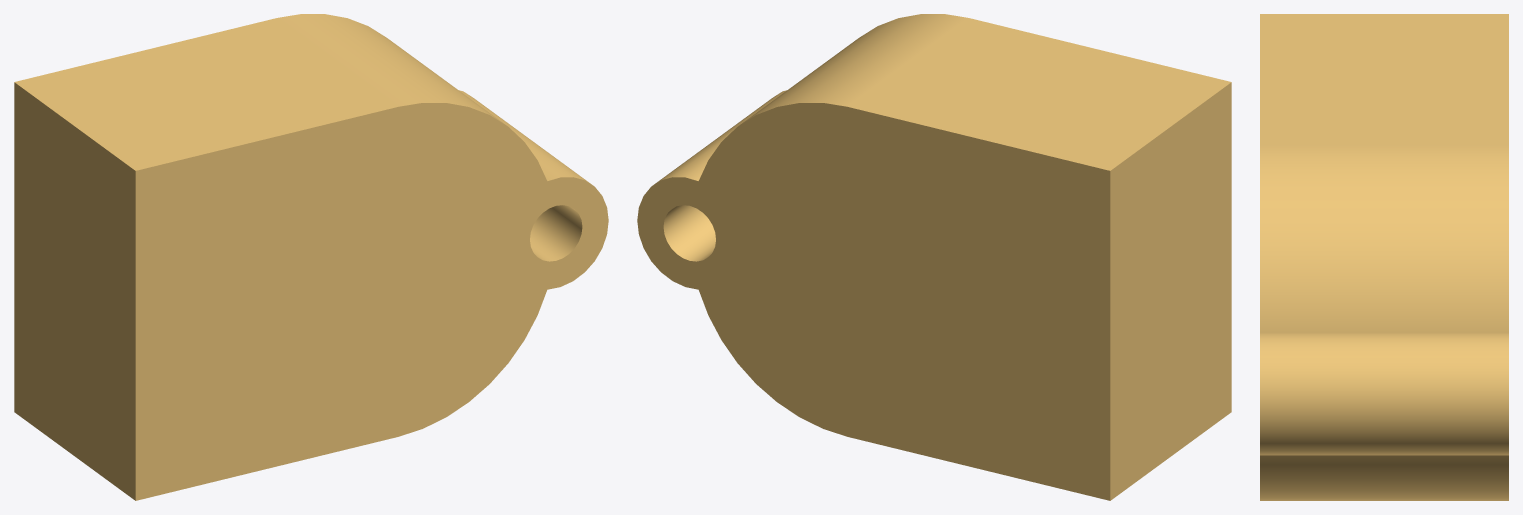
Rendered from NAND.obj.
The picture shows the model from 3 angles, left to right: view 1: azimuth 30°, elevation 25°; view 2: azimuth 150°, elevation 25°; view 3: azimuth 270°, elevation 25°; orthographic projection. The views are drawn at different scales.
Parts seen in each view (by area): view 1: Body1; view 2: Body1; view 3: Body1.
Boxes of the visible parts, x1,y1,x2,y2 form: Body1: (14,14,608,500); Body1: (637,14,1231,500); Body1: (1260,14,1508,500).
Bounding box in the file's own units: 4.5 × 3 × 2.
